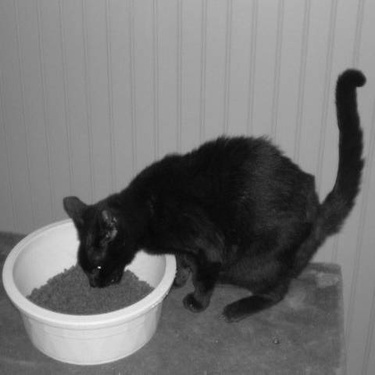cat: (60, 61, 359, 319)
